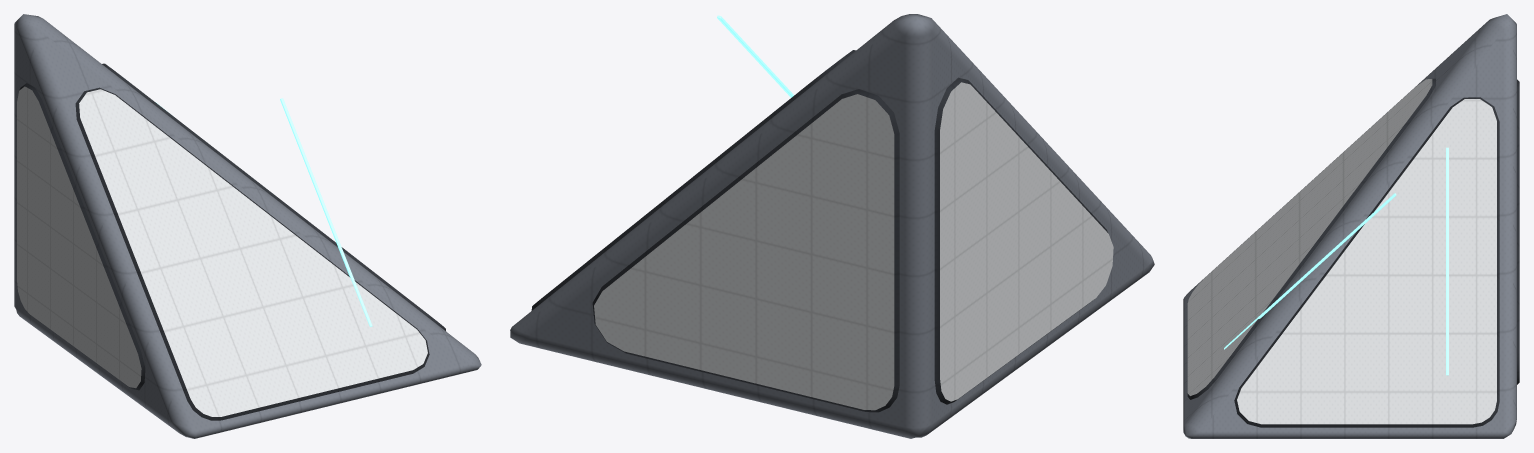
The model's file is R4B_CornerWedge.glb.
3 renders of one model, left to right at view 1: azimuth 30°, elevation 25°; view 2: azimuth 150°, elevation 25°; view 3: azimuth 270°, elevation 25°, orthographic. The views are drawn at different scales.
Parts seen in each view (by area): view 1: R4B_CornerWedge; view 2: R4B_CornerWedge; view 3: R4B_CornerWedge.
Boxes of the visible parts, x1=… form: R4B_CornerWedge: x1=14, y1=14, x2=481, y2=438; R4B_CornerWedge: x1=510, y1=14, x2=1154, y2=438; R4B_CornerWedge: x1=1183, y1=14, x2=1519, y2=438.
Size of the model in its own units: 0.4985 by 0.4778 by 0.4985.
Materials: 4 (3 with a texture image).
